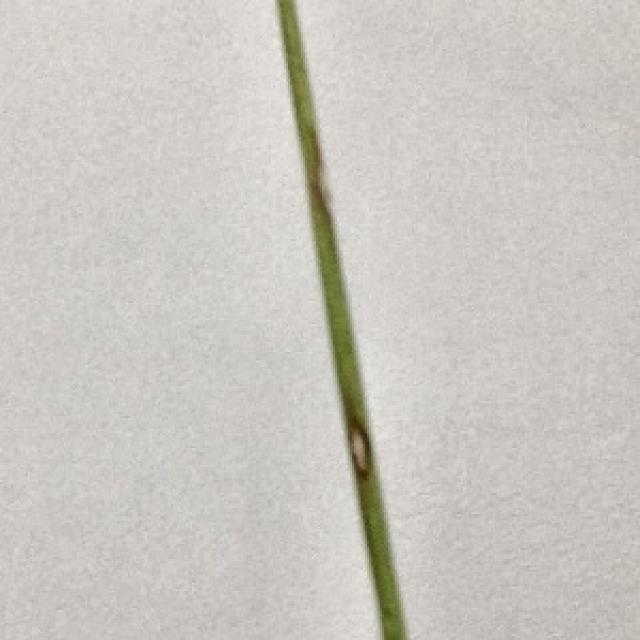Leaf_Blast: (298, 137, 344, 273), (345, 394, 382, 476)
